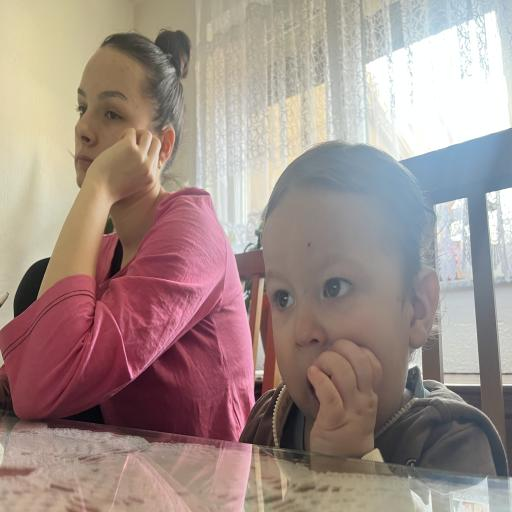marija: (74, 34, 167, 202)
